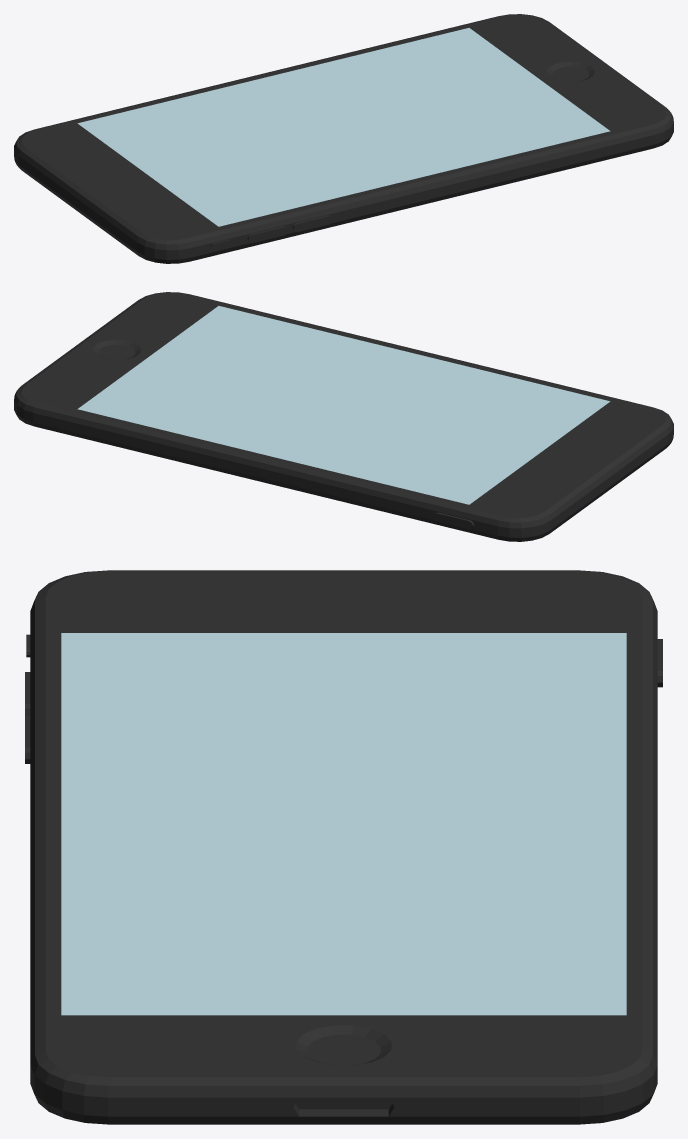
The model's file is 1327 iPhone.gltf.
The picture shows the model from 3 angles, top to bottom: view 1: azimuth 30°, elevation 25°; view 2: azimuth 150°, elevation 25°; view 3: azimuth 270°, elevation 25°; orthographic projection. The views are drawn at different scales.
Visible parts, largest first — view 1: node-0; view 2: node-0; view 3: node-0.
Boxes of the visible parts, x1=… form: node-0: x1=14, y1=14, x2=673, y2=263; node-0: x1=14, y1=292, x2=673, y2=541; node-0: x1=25, y1=570, x2=662, y2=1124.
Bounding box in the file's own units: 54.8 × 2.77 × 28.44.
Materials: 1 (1 with a texture image).
